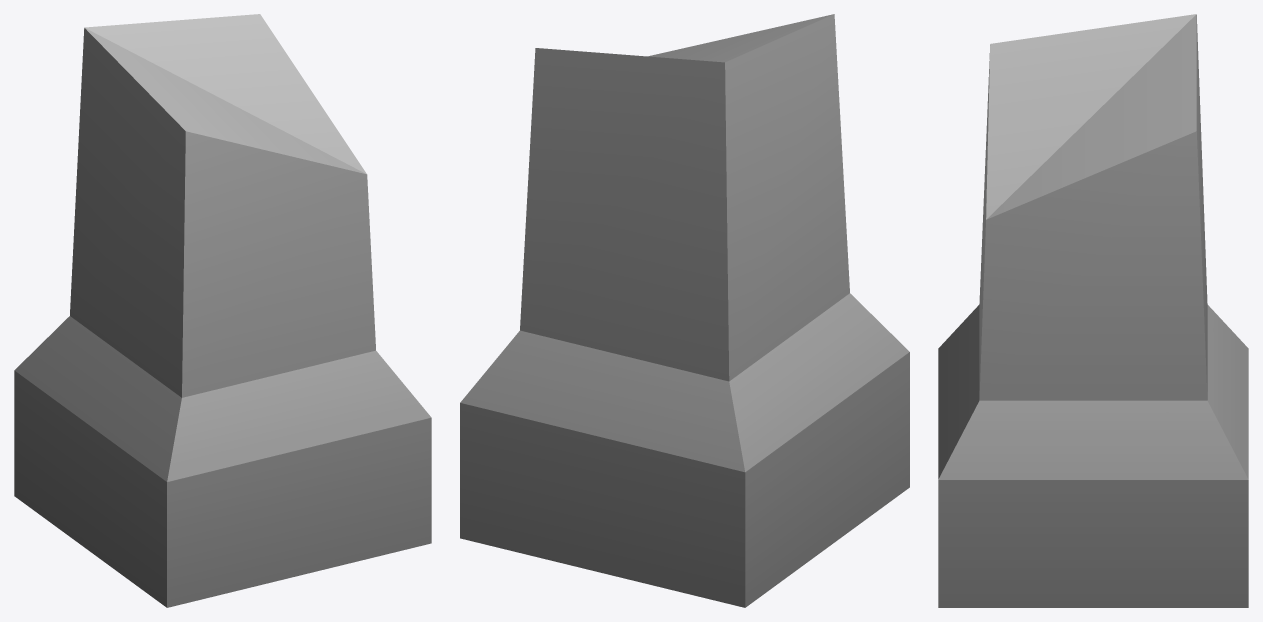
The model's file is [OBJ]Obelisco_Ruina.fbx.
3 renders of one model, left to right at view 1: azimuth 30°, elevation 25°; view 2: azimuth 150°, elevation 25°; view 3: azimuth 270°, elevation 25°, orthographic. The views are drawn at different scales.
Visible parts, largest first — view 1: [OBJ]Obelisco_Ruina; view 2: [OBJ]Obelisco_Ruina; view 3: [OBJ]Obelisco_Ruina.
Boxes of the visible parts, x1=… form: [OBJ]Obelisco_Ruina: x1=14, y1=14, x2=431, y2=607; [OBJ]Obelisco_Ruina: x1=460, y1=14, x2=909, y2=607; [OBJ]Obelisco_Ruina: x1=938, y1=14, x2=1248, y2=607.
Size of the model in its own units: 68.93 by 119 by 68.93.
